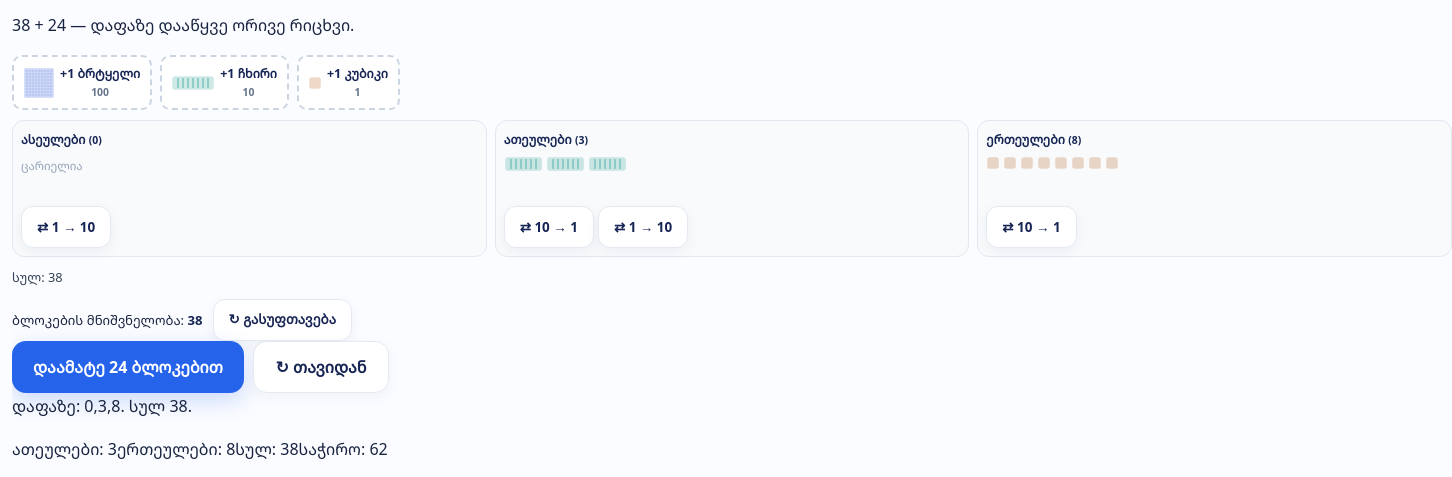
it: tools: the adding mat › leaves 12 ones ungrouped so the student must exchange them
Click the button "დაამატე 24 ბლოკებით". click: (128, 367)
box: [12, 341, 244, 393]
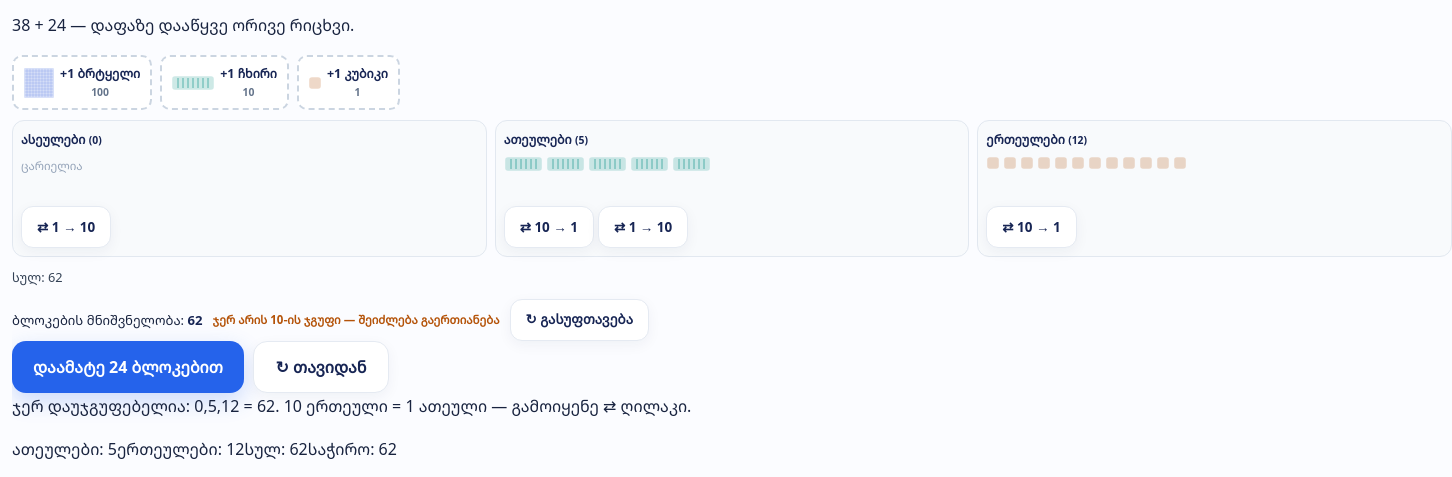
Now the message with class "lab-status" shows "დაუჯგუფებელია", box [12, 395, 691, 417]
// ten ones can now be exchanged for one ten, and the value does not change
Click the button named "10 ერთეულები გახადე 1 ათეული". click: (1031, 227)
box: [986, 206, 1077, 248]
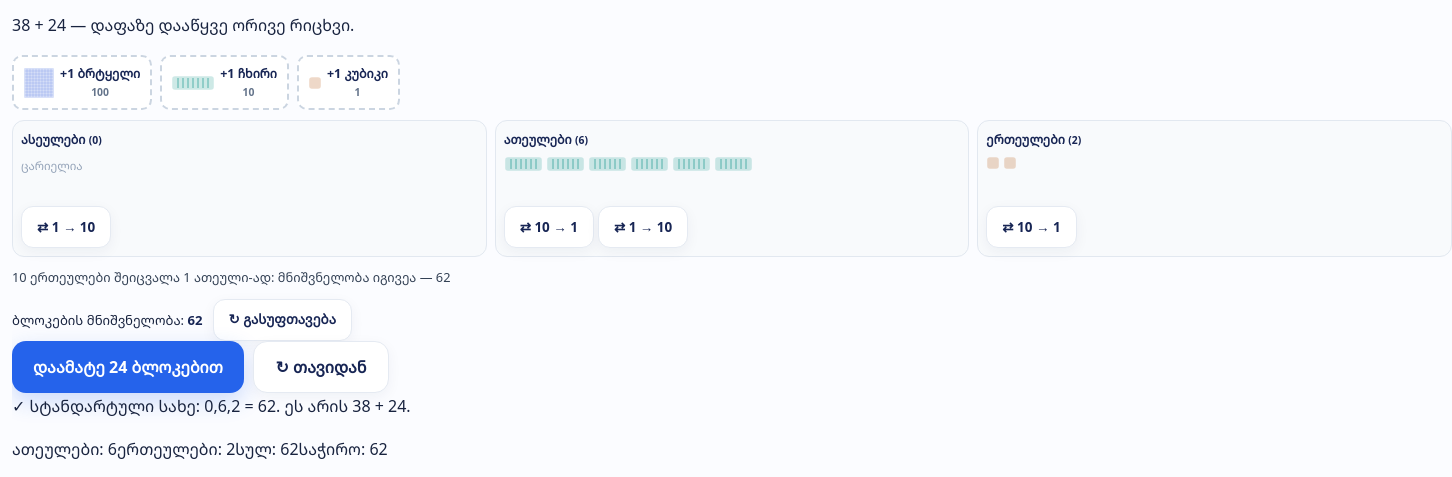
Expected: the element with class "lab-facts" shows "62", [280, 438, 299, 460]
Now the message with class "lab-status" shows "სტანდარტული", box [12, 395, 411, 417]
